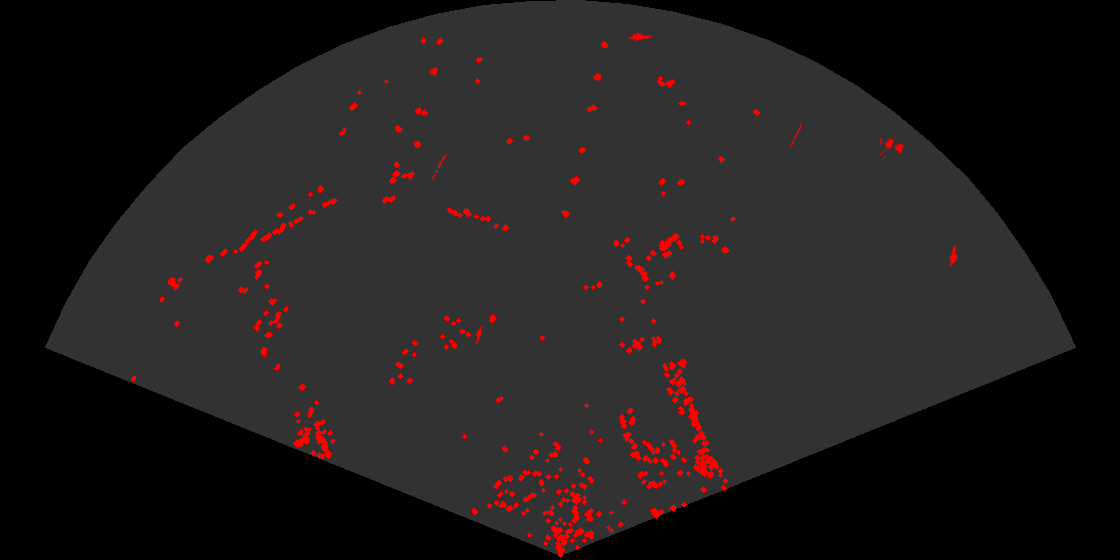cage: (880, 136, 905, 160)
chain: (430, 152, 449, 180), (789, 121, 804, 147)
frogman: (946, 243, 960, 266), (629, 30, 653, 43), (474, 326, 485, 344)
